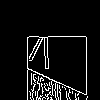V: (25, 25, 56, 80)
